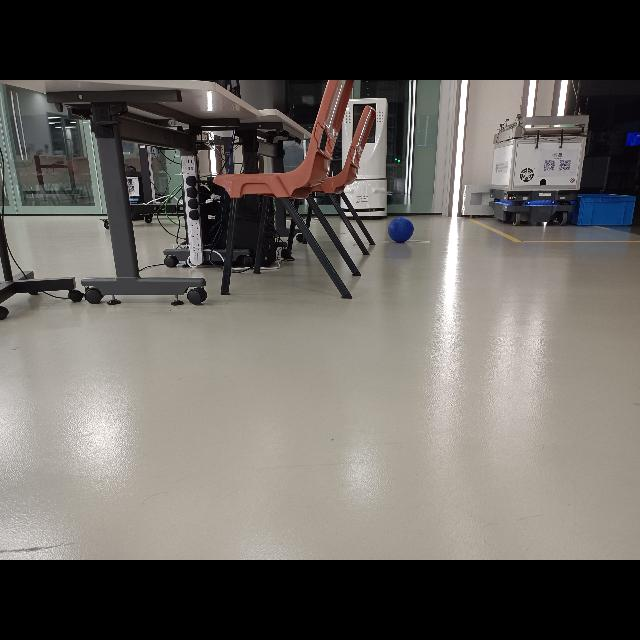B: (388, 217, 414, 243)
